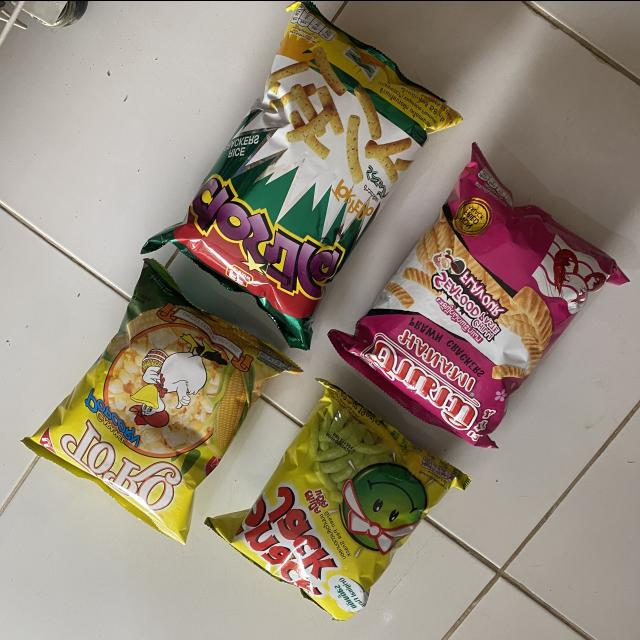plastik: (142, 0, 462, 348), (329, 142, 629, 446), (22, 258, 301, 541), (205, 379, 470, 619)
